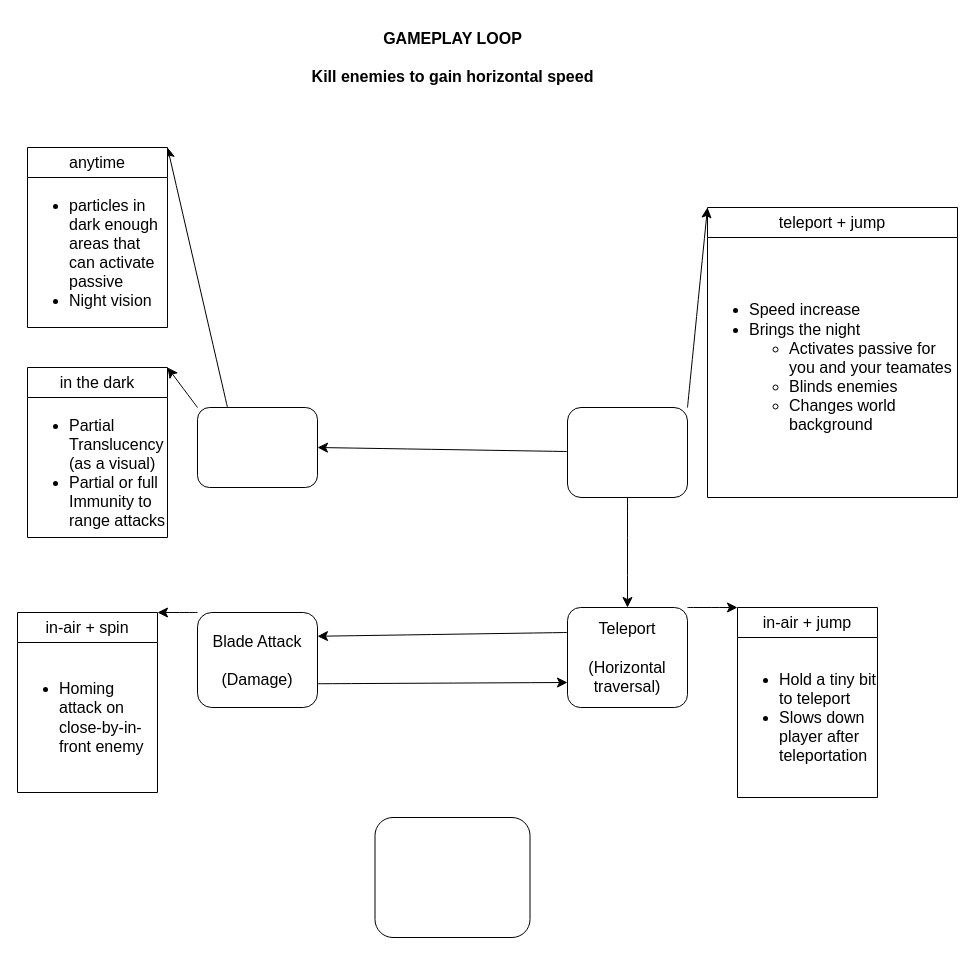
This 975x955 diagram has some shape labels left out. The centre of each missing label's shape, as x and y in pixels:
"Passive (defense)" belongs at point (257, 447).
"Stinger (Damage & horizontal traversal)" belongs at point (452, 877).
"Ultimate (Team buffs & Enemy debuffs)" belongs at point (627, 452).
